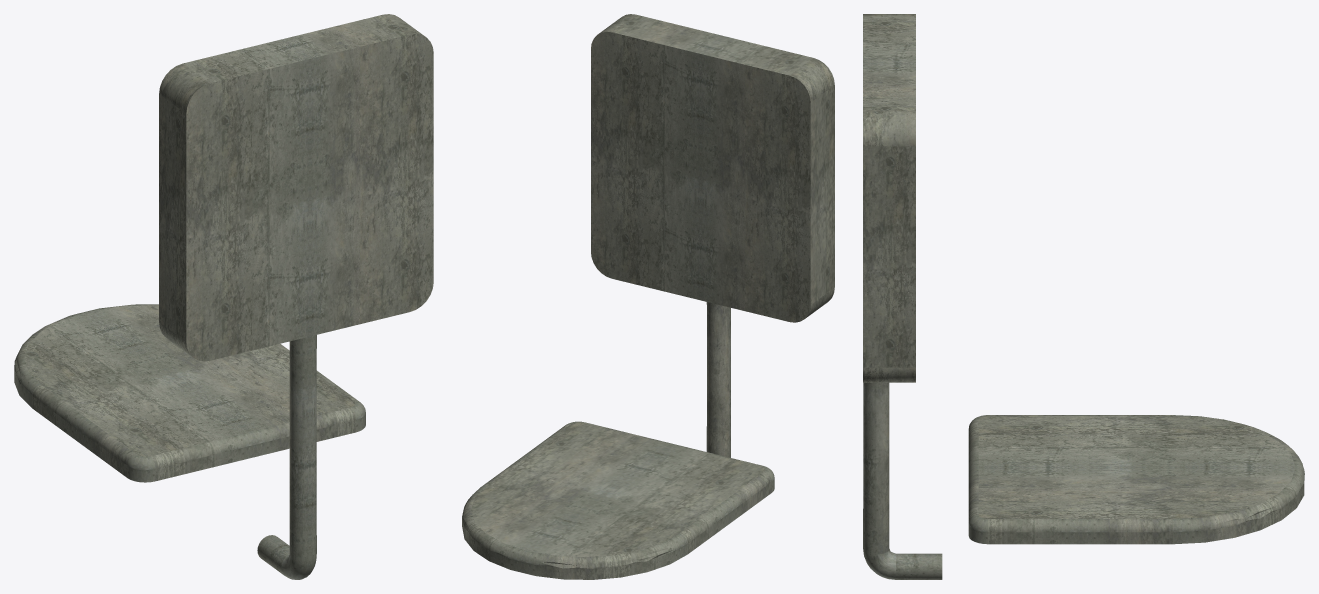
3 renders of one model, left to right at view 1: azimuth 30°, elevation 25°; view 2: azimuth 150°, elevation 25°; view 3: azimuth 270°, elevation 25°, orthographic. The views are drawn at different scales.
Size of the model in its own units: 0.42 by 0.861 by 0.6694.
1 material, 1 textured.
